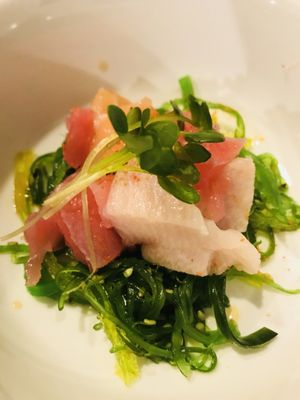curry: (28, 250, 281, 386)
